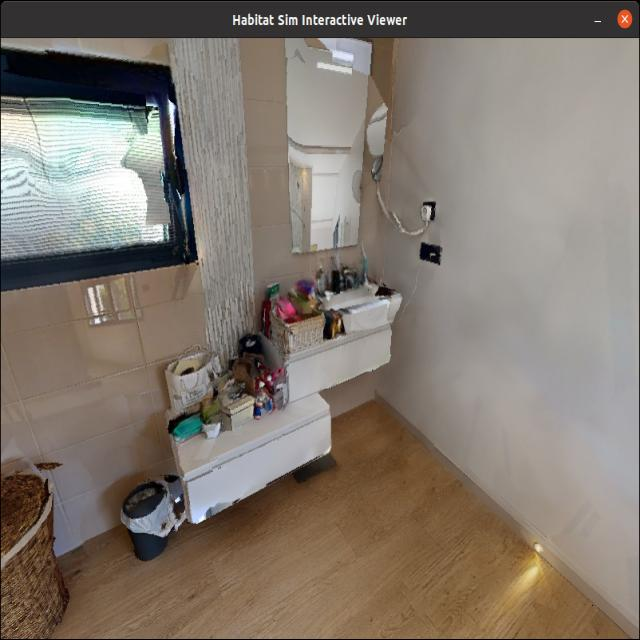sink: (306, 229, 390, 346)
